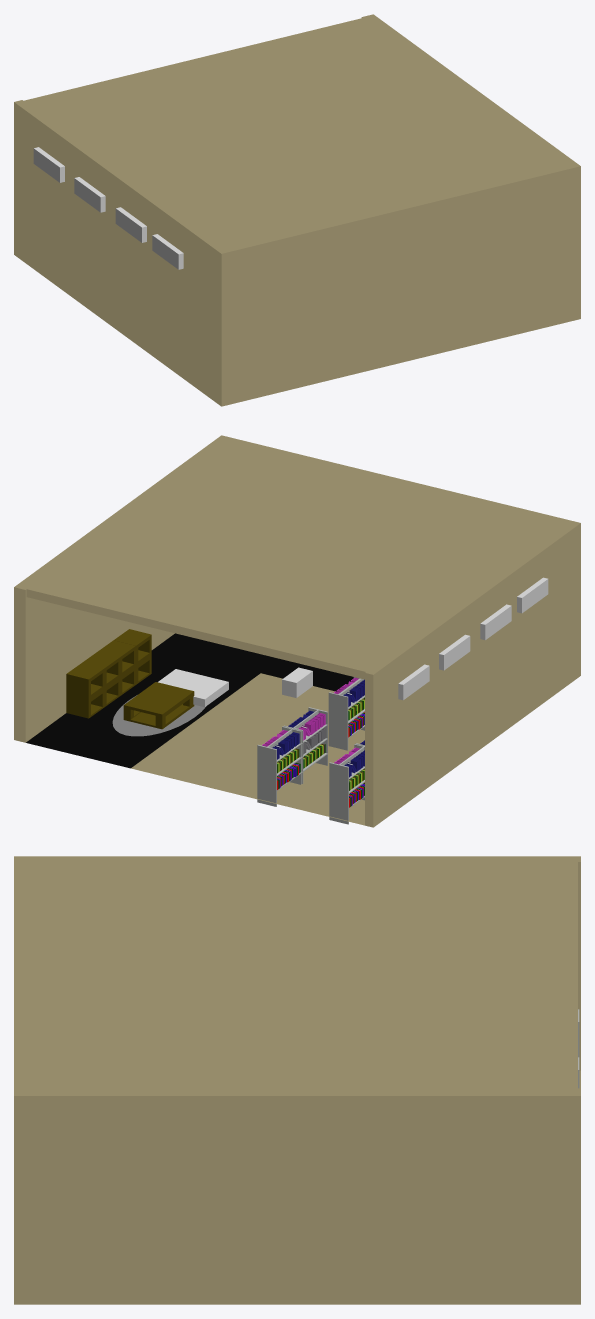
The model's file is perpus.glb.
3 renders of one model, top to bottom at view 1: azimuth 30°, elevation 25°; view 2: azimuth 150°, elevation 25°; view 3: azimuth 270°, elevation 25°, orthographic. The views are drawn at different scales.
Visible parts, largest first — view 1: Plane, Cube.012, Cube.013, Cube.014, Cube.011; view 2: Plane, Cube.007, rak.002, Cube.006, rak.004, rak.003, Cube.010, Circle.001, Cube.009, Cube.011, Cube.013, Cube.014 (+1 smaller); view 3: Plane.
Boxes of the visible parts, bbox=[...] form: Plane: bbox=[14, 14, 580, 406]; Cube.012: bbox=[74, 177, 105, 212]; Cube.013: bbox=[115, 207, 146, 242]; Cube.014: bbox=[152, 234, 183, 269]; Cube.011: bbox=[33, 147, 64, 182]; Plane: bbox=[14, 435, 580, 827]; Cube.007: bbox=[66, 629, 151, 718]; rak.002: bbox=[257, 707, 327, 806]; Cube.006: bbox=[123, 682, 194, 729]; rak.004: bbox=[329, 740, 364, 824]; rak.003: bbox=[328, 677, 364, 750]; Cube.010: bbox=[158, 669, 228, 707]; Circle.001: bbox=[112, 695, 206, 736]; Cube.009: bbox=[282, 667, 312, 697]; Cube.011: bbox=[398, 664, 429, 700]; Cube.013: bbox=[480, 604, 511, 640]; Cube.014: bbox=[517, 577, 548, 613]; Plane: bbox=[14, 856, 580, 1304].
Size of the model in its own units: 32.81 by 13.45 by 32.35.
